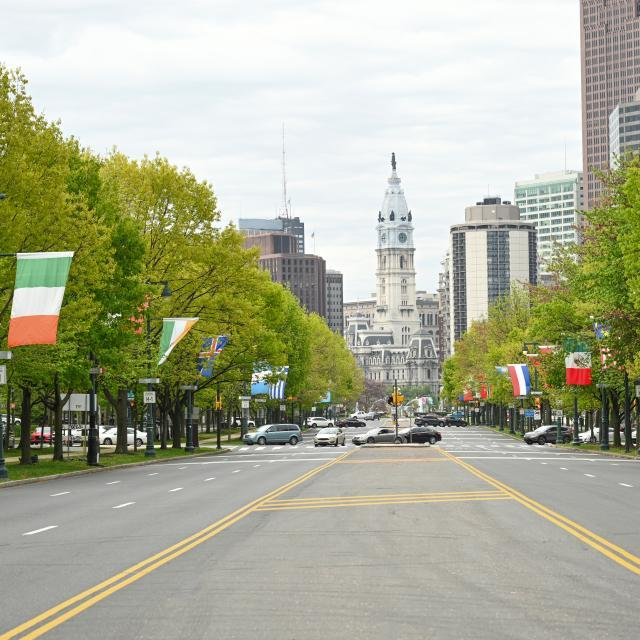curb: (556, 445, 639, 460)
